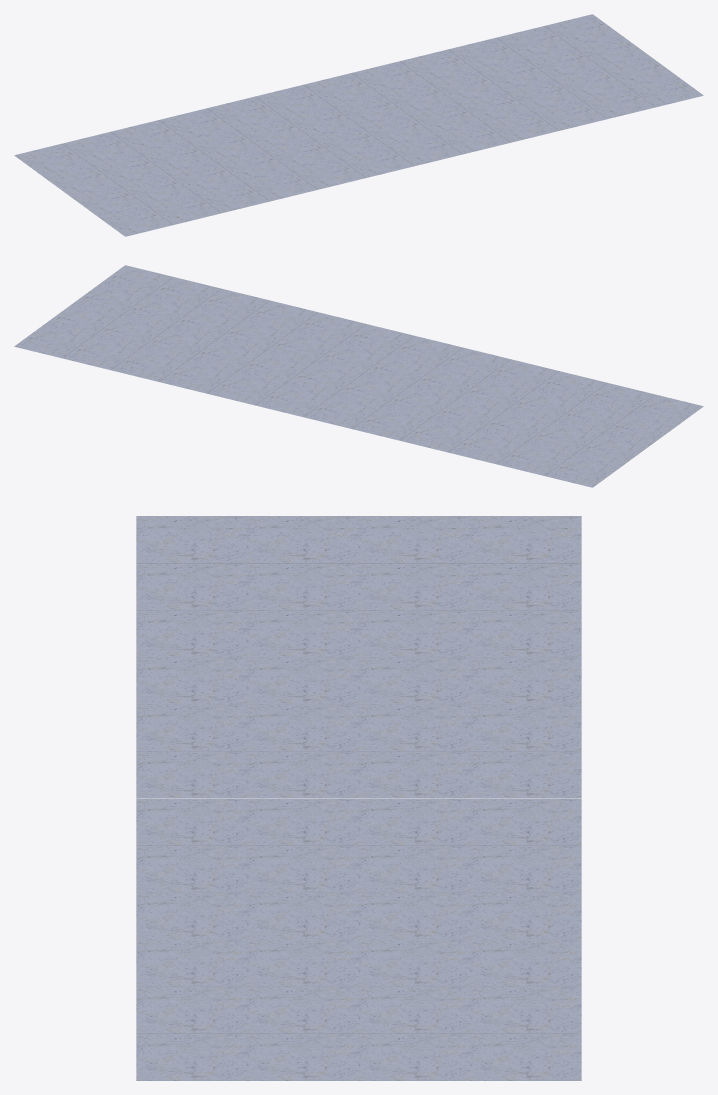
File: wh_floor.obj
3 views of the same model, one above another, from view 1: azimuth 30°, elevation 25°; view 2: azimuth 150°, elevation 25°; view 3: azimuth 270°, elevation 25° (orthographic). The views are drawn at different scales.
Parts seen in each view (by area): view 1: floor; view 2: floor; view 3: floor.
Part boxes in pixels (<box>): floor: <box>14,14,703,236</box>; floor: <box>14,265,703,487</box>; floor: <box>136,516,581,1080</box>.
Size of the model in its own units: 91.76 by 1.43e-06 by 30.59.
1 material, 1 textured.
